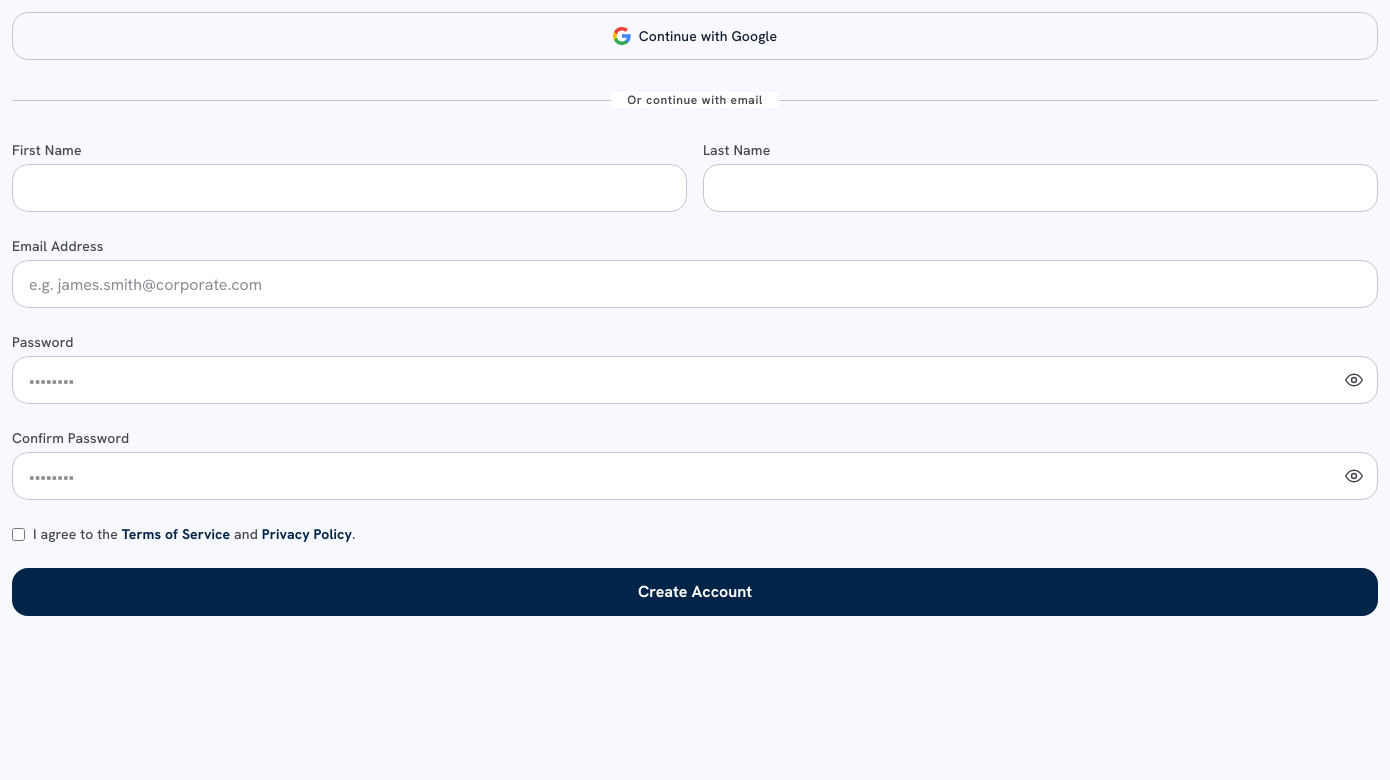
Test: RegisterForm › shows a mismatch error when password and confirmPassword differ
Type "Ann" into the field labelled "First Name".
click(350, 188); type("Ann")  # box [12,164,687,212]
Type "Lee" into the field labelled "Last Name".
click(1040, 188); type("Lee")  # box [703,164,1378,212]
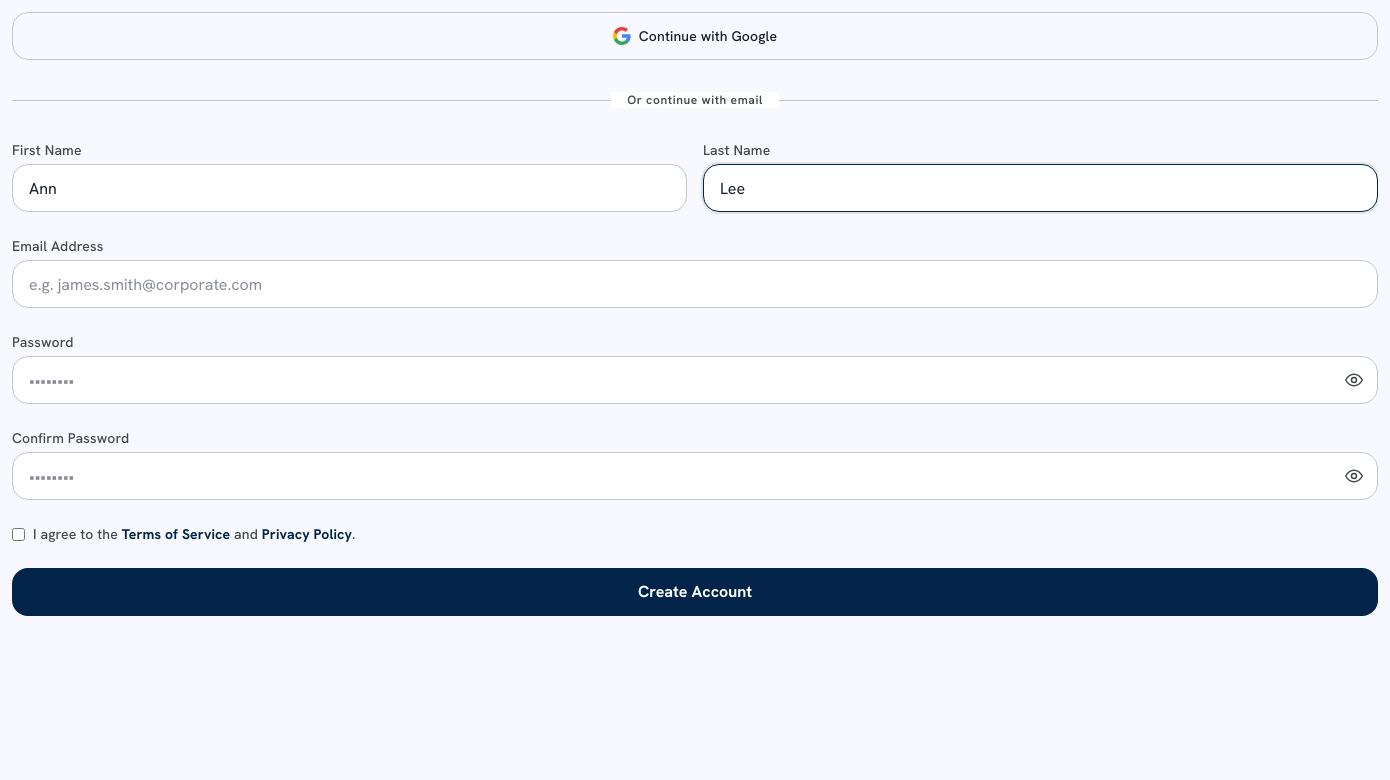
Type "ann@example.com" into the field labelled "Email Address".
click(695, 284); type("ann@example.com")  # box [12,260,1378,308]
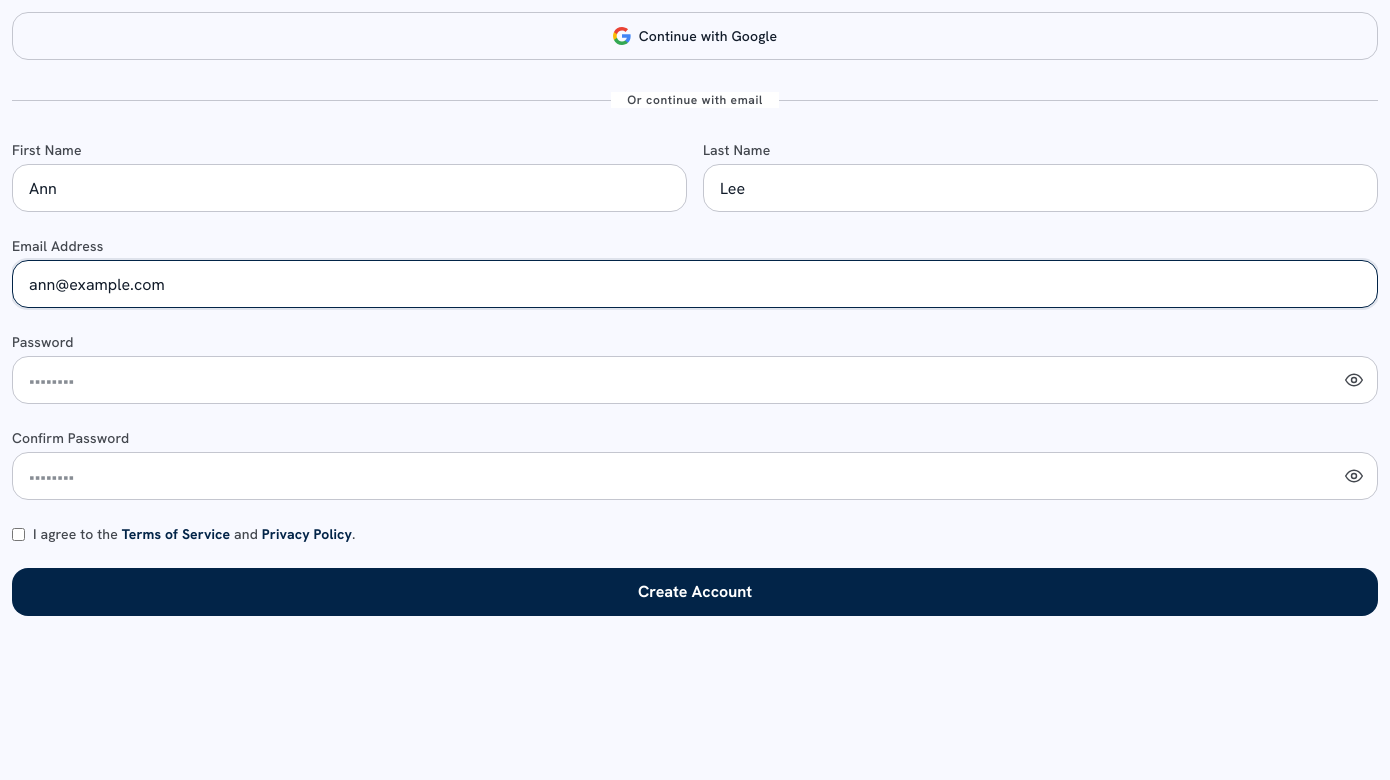
Type "Str0ng!Pass" into the password field labelled "Password".
click(695, 380); type("Str0ng!Pass")  # box [12,356,1378,404]
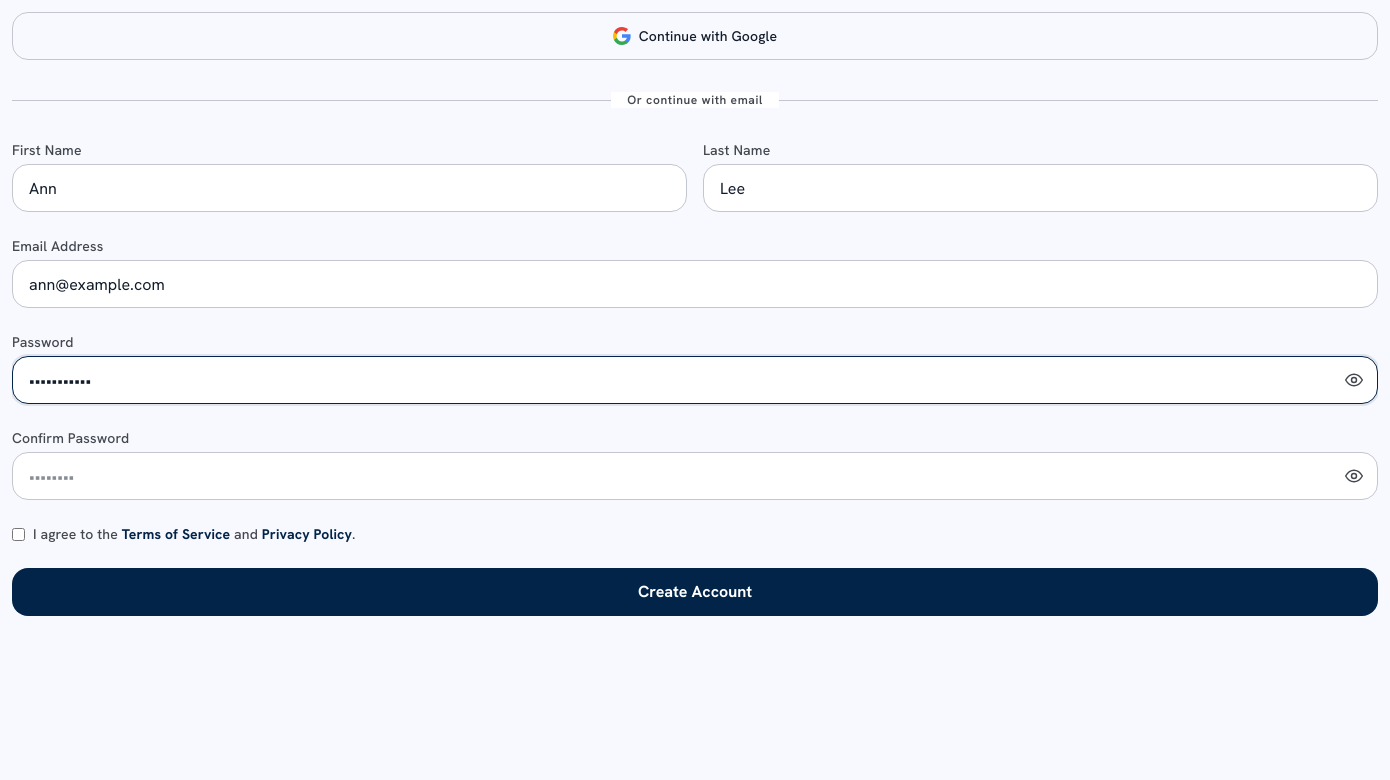
Type "SomethingElse1!" into the password field labelled "Confirm Password".
click(695, 476); type("SomethingElse1!")  # box [12,452,1378,500]
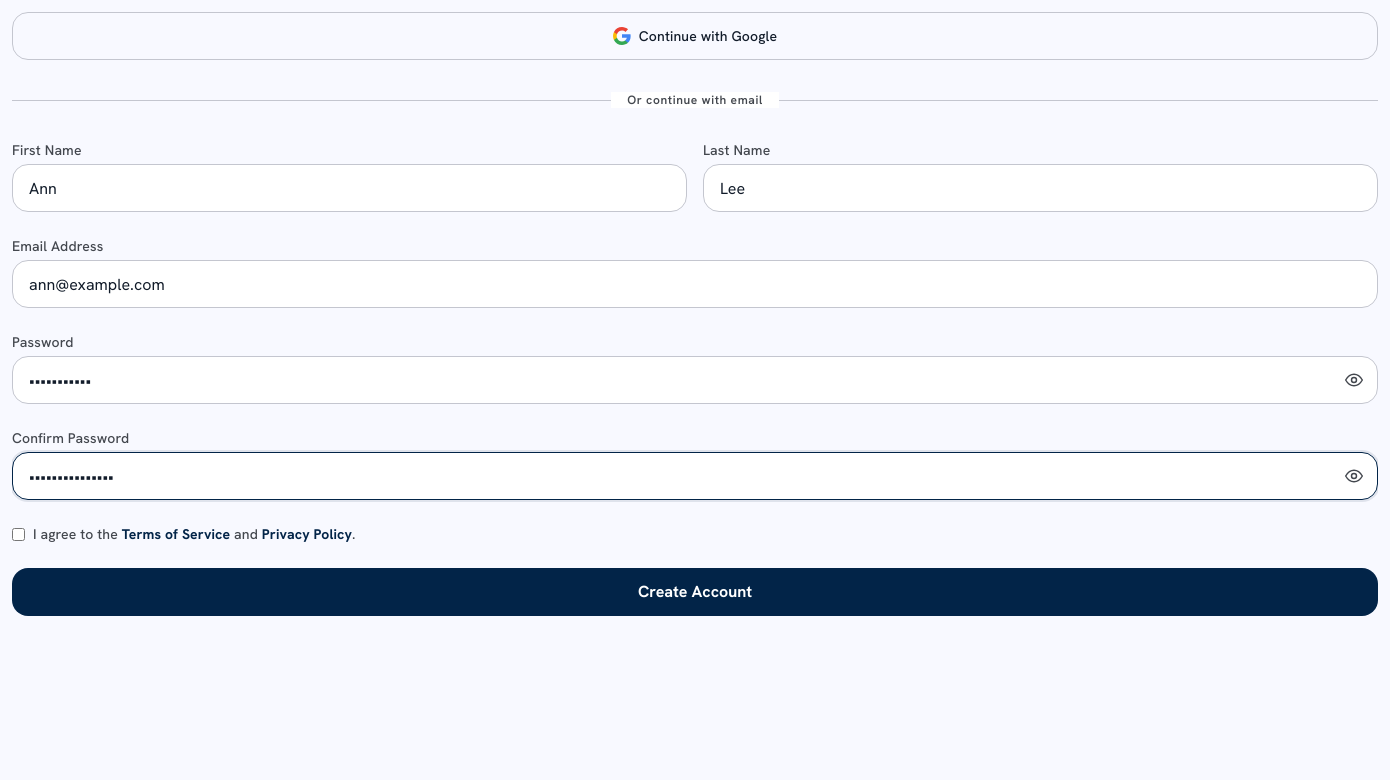
Click the checkbox.
click(18, 534)  # box [12,528,25,541]
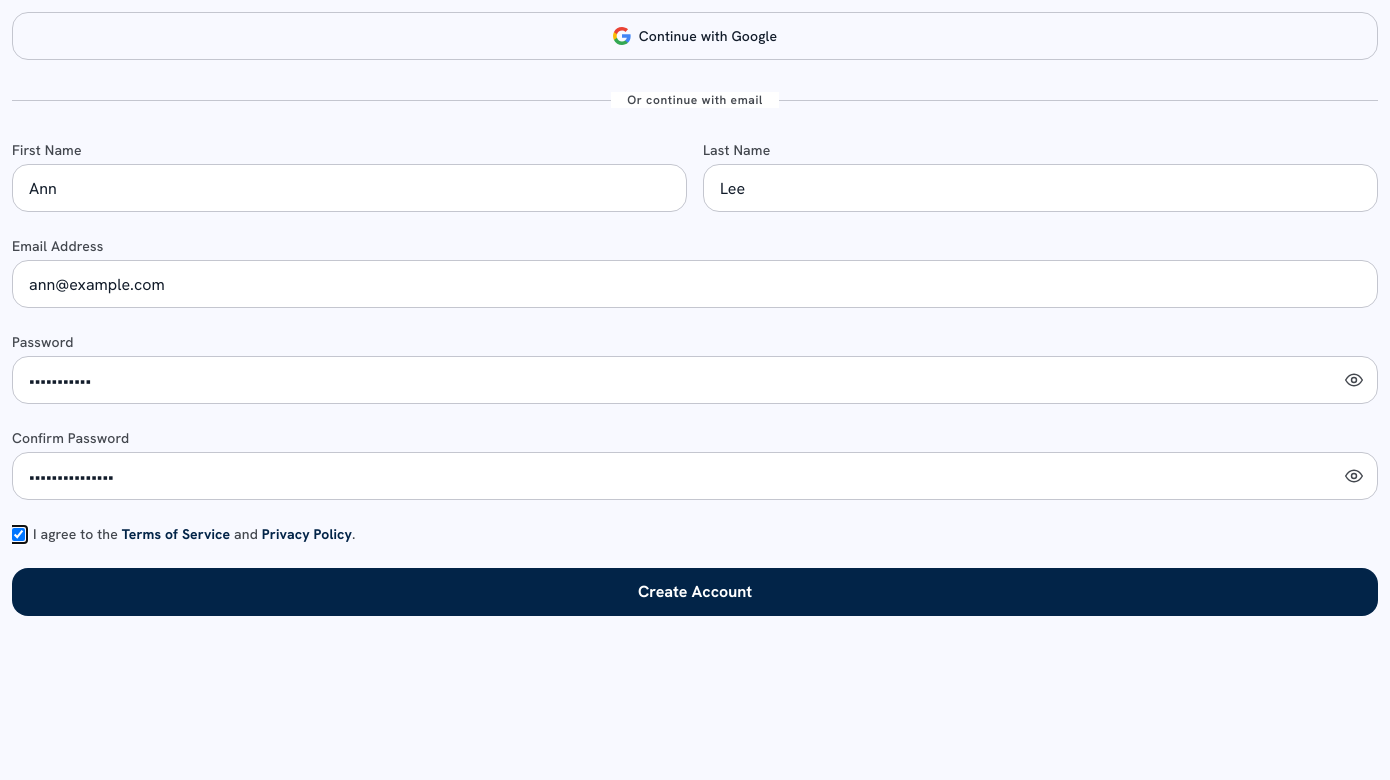
Click the button "Create Account".
click(695, 592)  # box [12,568,1378,616]
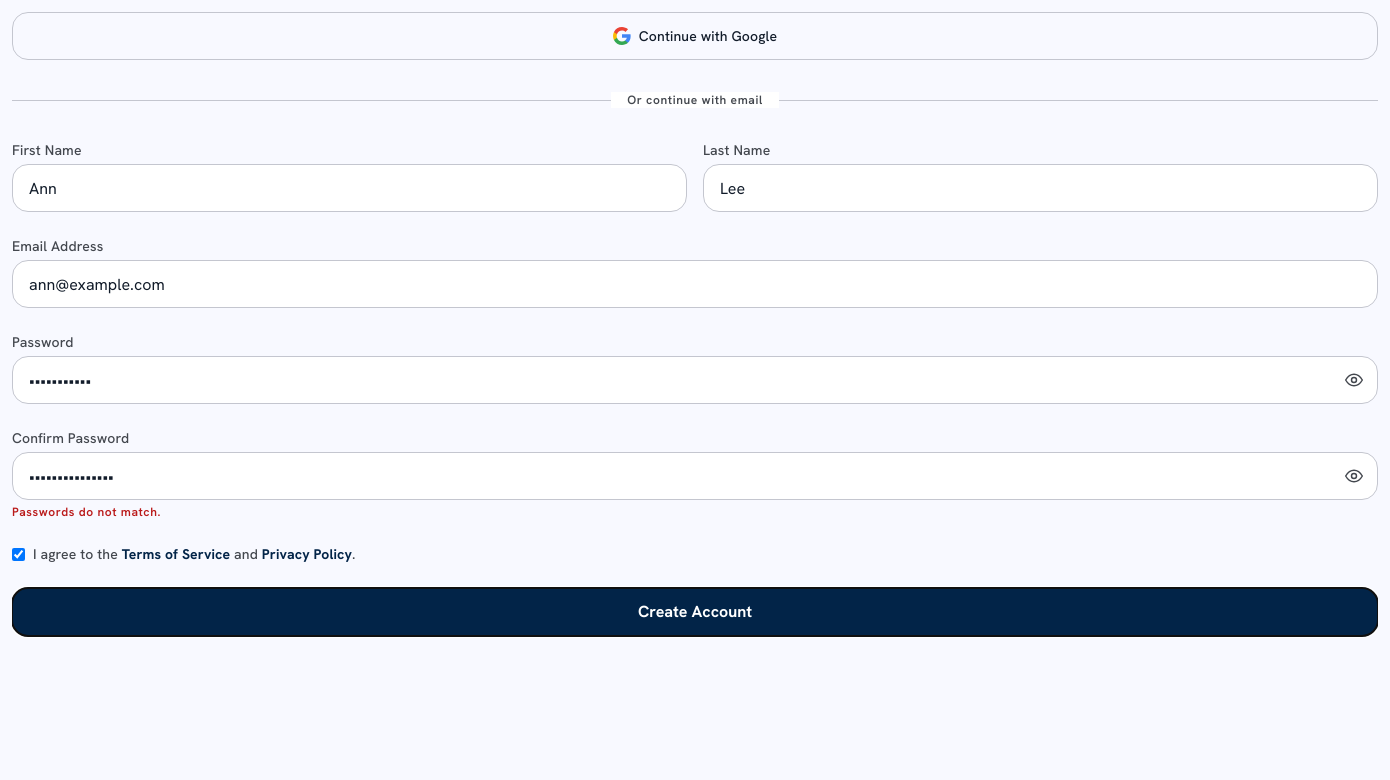
expect the text "Passwords do not match." is shown: met, box [12,504,161,520]
